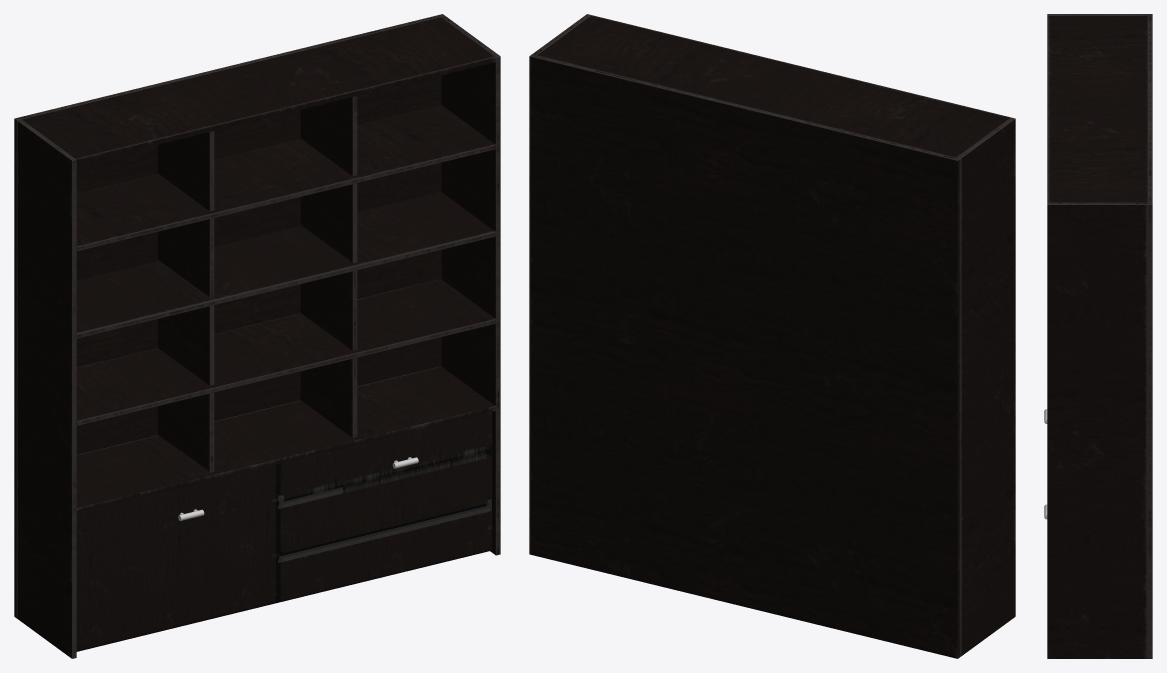
Rendered from estante.obj.
3 renders of one model, left to right at view 1: azimuth 30°, elevation 25°; view 2: azimuth 150°, elevation 25°; view 3: azimuth 270°, elevation 25°, orthographic. The views are drawn at different scales.
Parts seen in each view (by area): view 1: Rak_Buku_Atas, Rak_Buku_Bawah; view 2: Rak_Buku_Atas; view 3: Rak_Buku_Atas.
Part boxes in pixels (x1,y1,x2,y2): Rak_Buku_Atas: (14,14,500,658); Rak_Buku_Bawah: (76,412,491,651); Rak_Buku_Atas: (529,14,1015,658); Rak_Buku_Atas: (1047,14,1152,658).
Size of the model in its own units: 180 by 200 by 43.25.
Materials: 2 (1 with a texture image).
